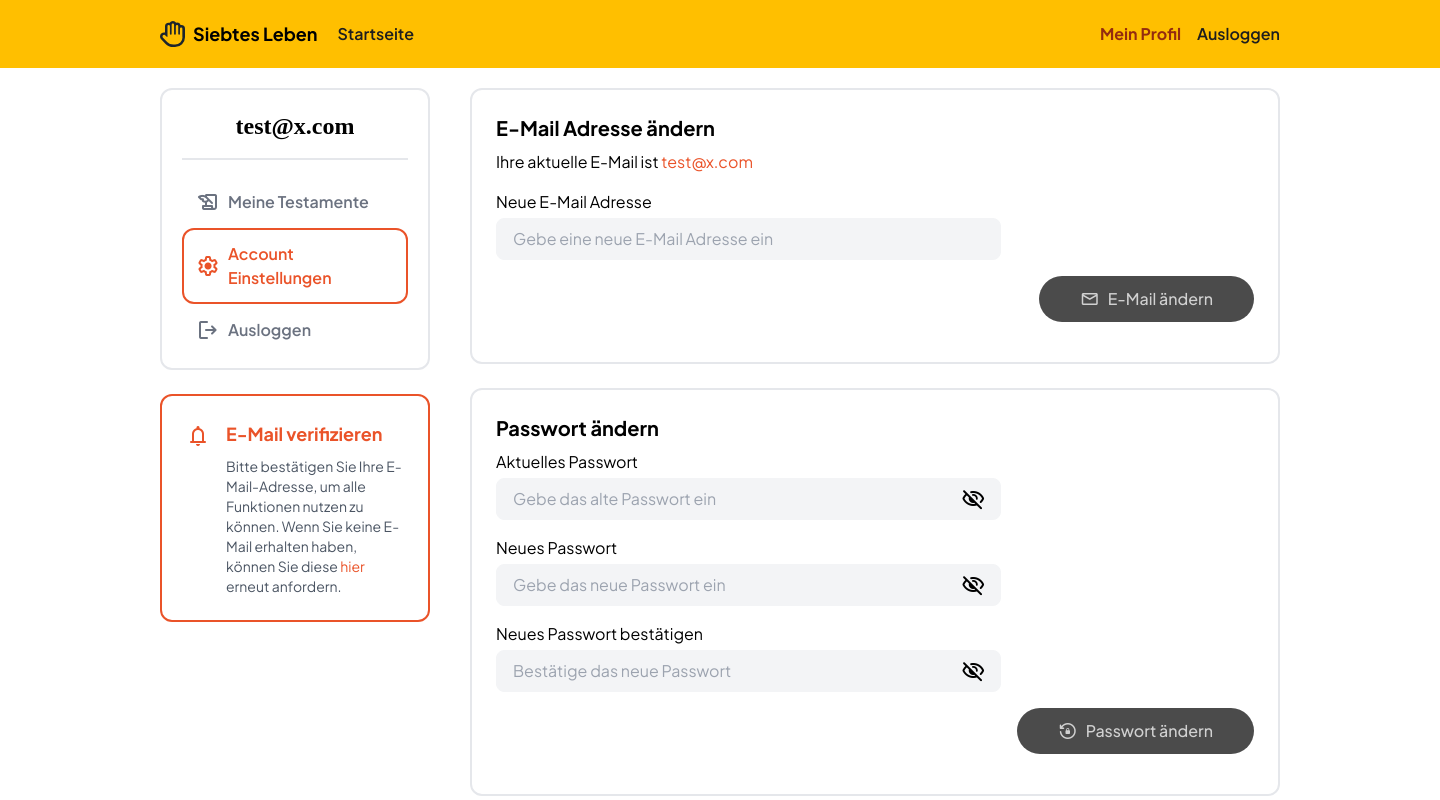
Test: Account Settings › Change Email › should show error message when something went wrong
The image size is (1440, 800).
Type "test@gmail.com" into the field labelled "Neue E-Mail Adresse" at (749, 239), box [496,218,1001,260]
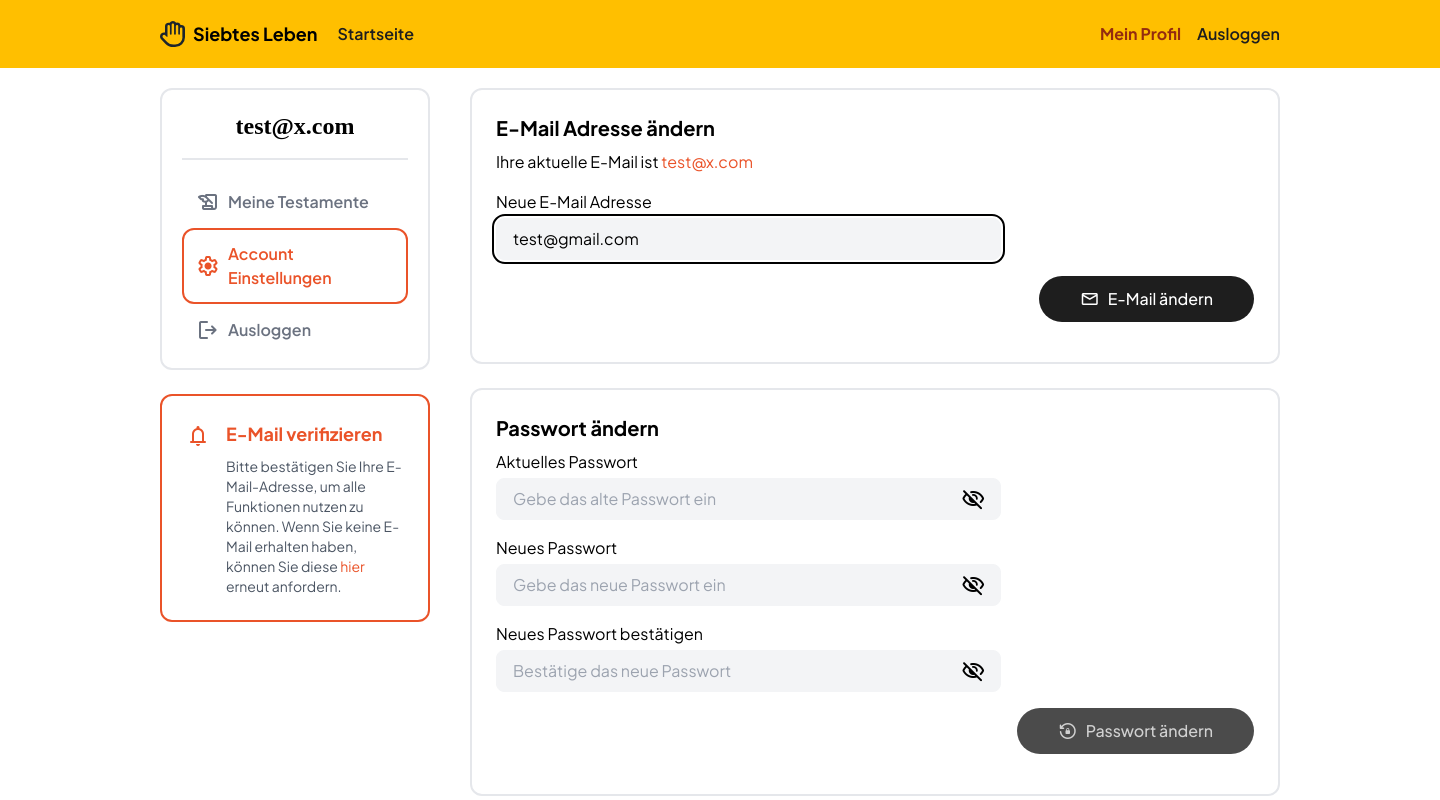
Click the button "E-Mail ändern" at (1147, 299), box [1039,276,1254,322]
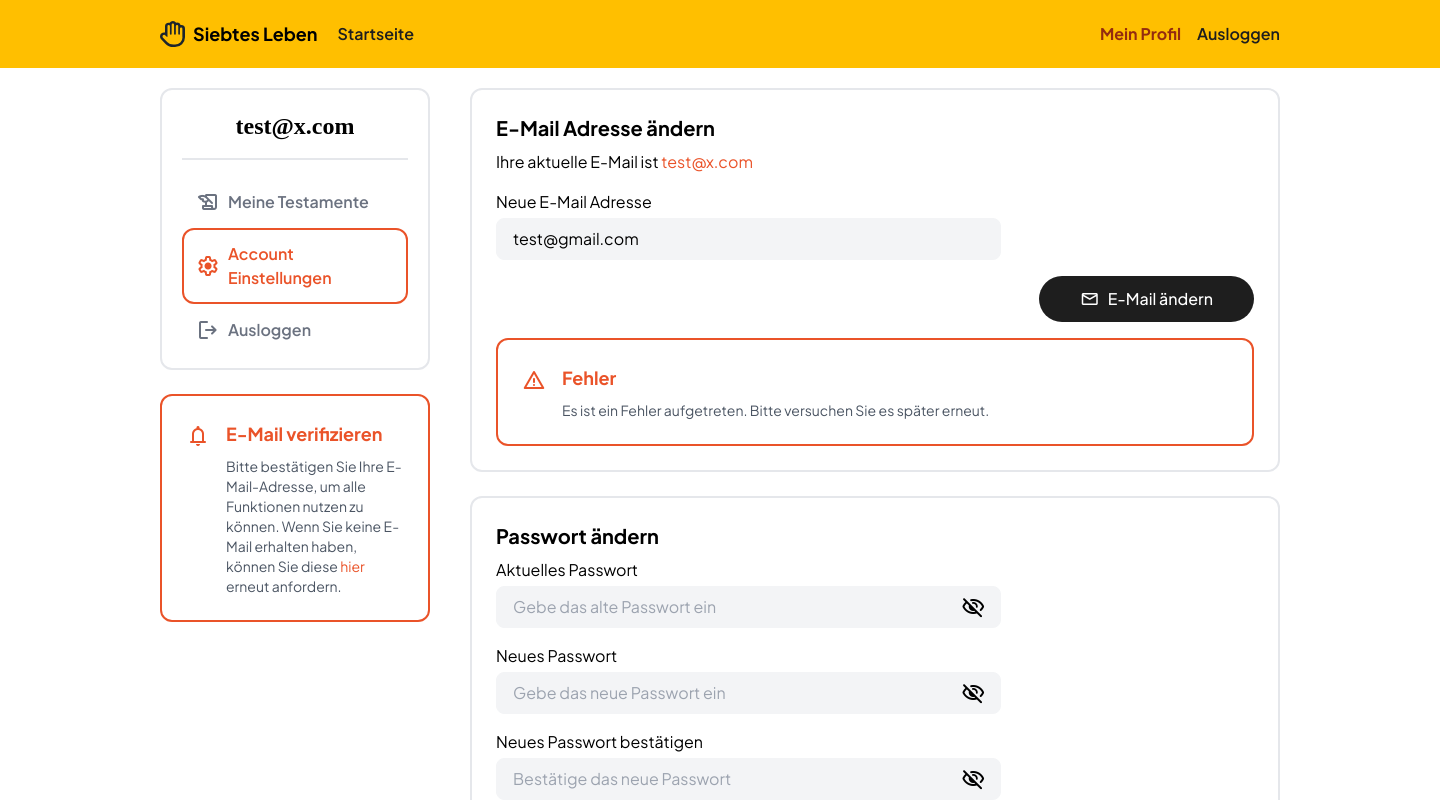
Expected: the heading "Fehler" is shown, [562,366,616,389]
Expected: the text "Es ist ein Fehler aufgetreten. Bitte versuchen Sie es später erneut." is shown, [562,400,989,420]
